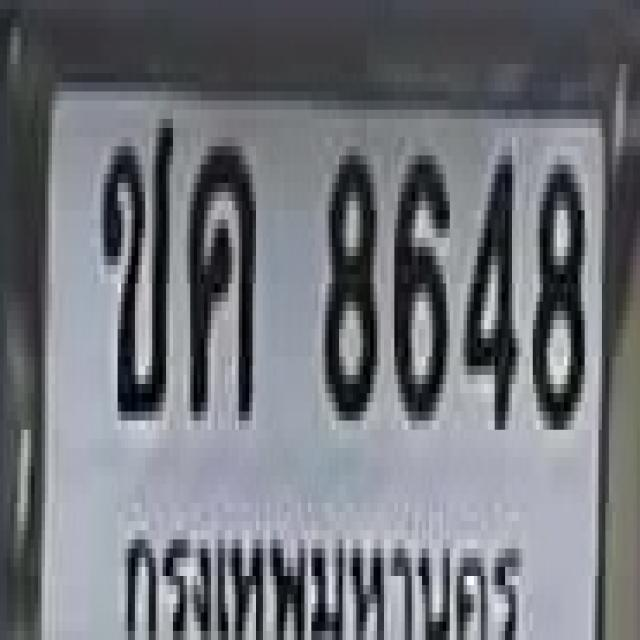-: (100, 110, 170, 411), (187, 137, 252, 412)
4: (460, 146, 512, 421)
6: (391, 146, 446, 412)
8: (322, 146, 374, 412), (529, 156, 581, 420)
BKK: (113, 505, 539, 640)
